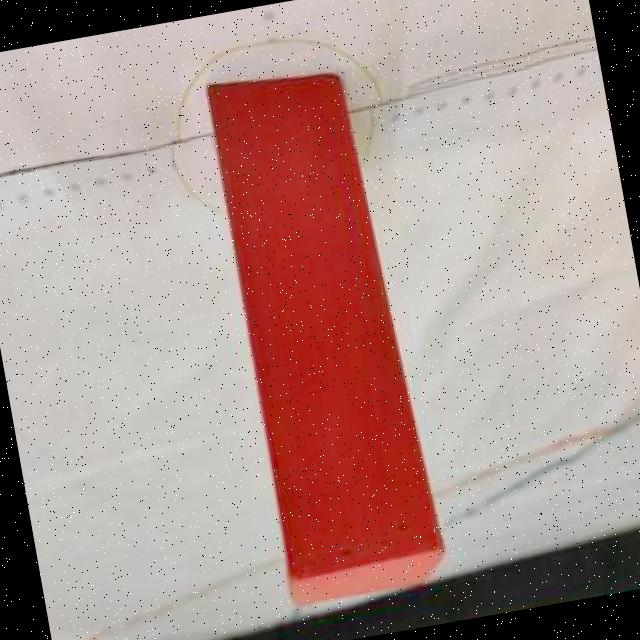redbox: (197, 57, 448, 610)
